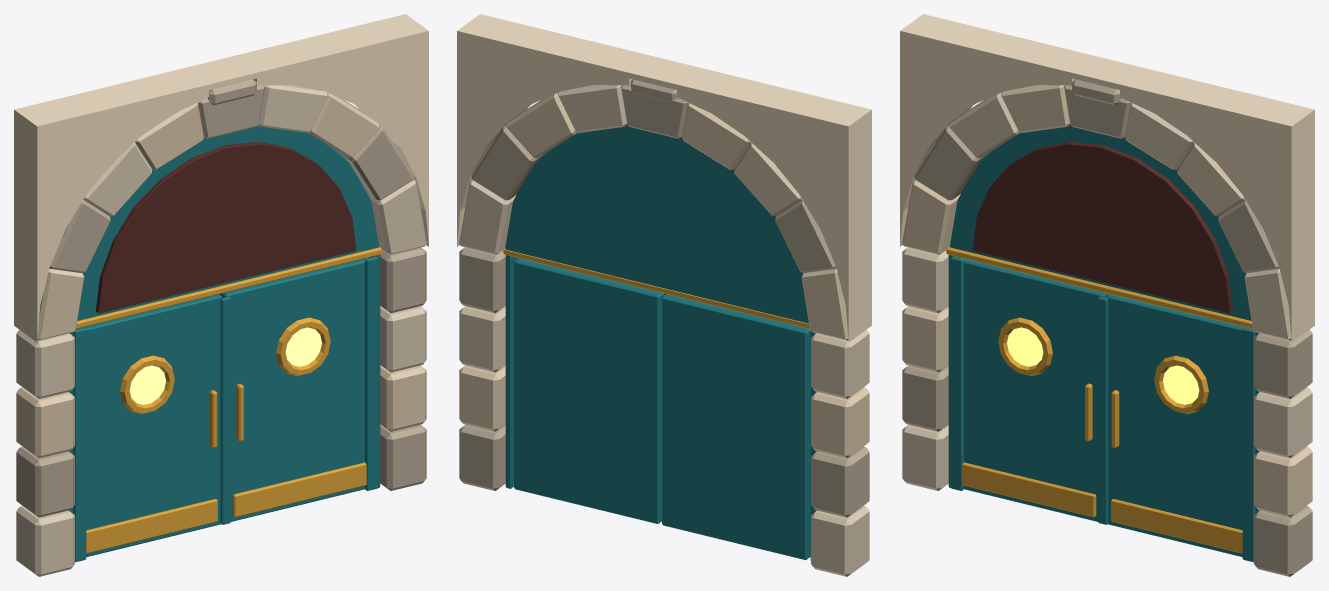
The model's file is screen_doors.glb.
The picture shows the model from 3 angles, left to right: view 1: azimuth 30°, elevation 25°; view 2: azimuth 150°, elevation 25°; view 3: azimuth 330°, elevation 25°; orthographic projection.
Parts seen in each view (by area): view 1: screen_doors, part_door_r, part_door_l; view 2: screen_doors, part_door_l, part_door_r; view 3: screen_doors, part_door_r, part_door_l.
Boxes of the visible parts, <box> form: screen_doors: <box>14,14,428,576</box>; part_door_r: <box>219,258,367,524</box>; part_door_l: <box>76,294,222,556</box>; screen_doors: <box>457,14,871,576</box>; part_door_l: <box>662,294,810,560</box>; part_door_r: <box>514,258,666,523</box>; screen_doors: <box>900,14,1314,576</box>; part_door_r: <box>1098,294,1252,556</box>; part_door_l: <box>961,258,1109,521</box>.
Size of the model in its own units: 2.94 by 3.25 by 0.34.
